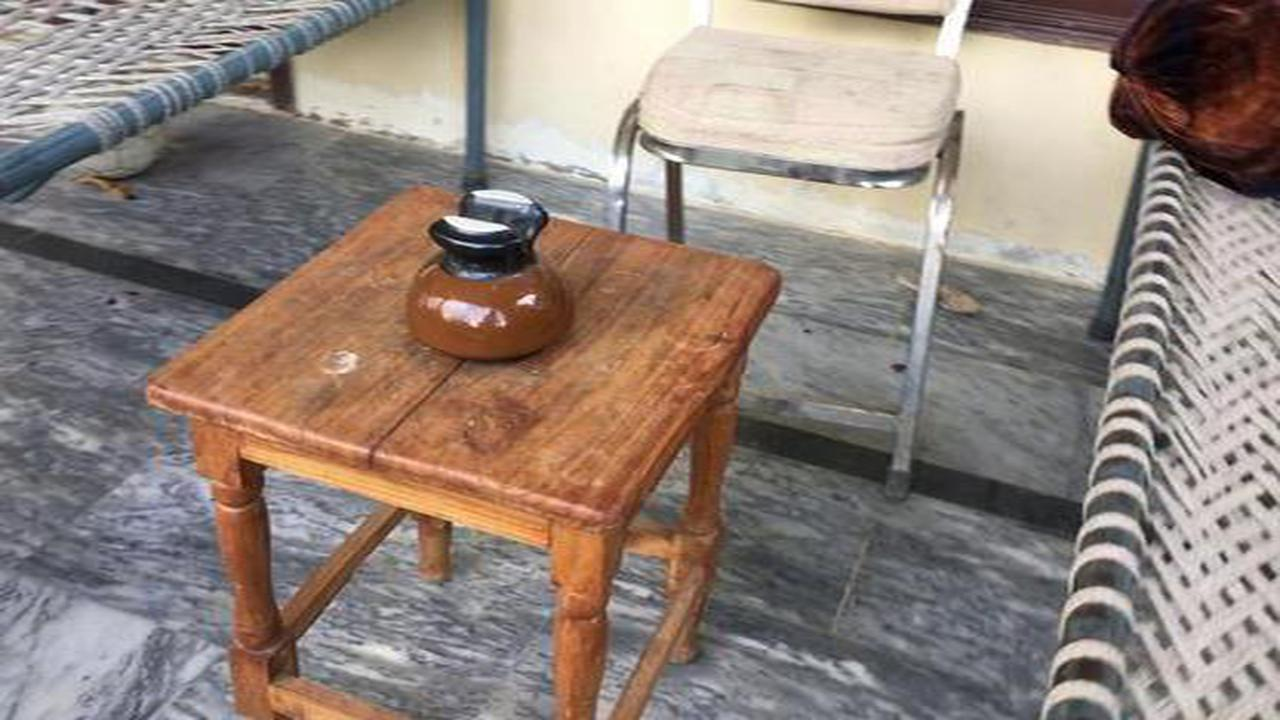insulator_pin: (397, 168, 579, 367)
